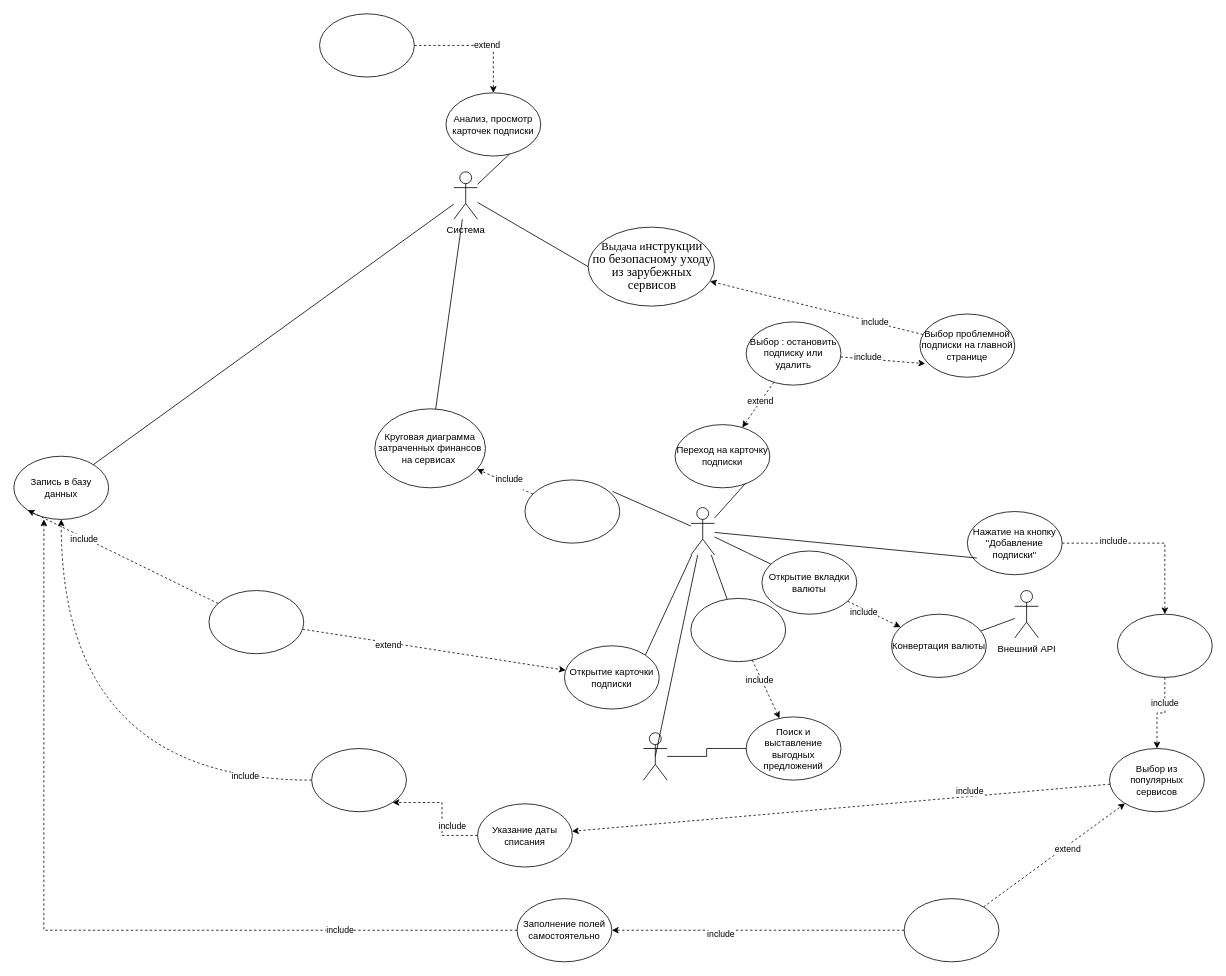
Image size: 1226x976. Some labels were removed from this diagram. The shapes that lost their labels are listed below. From the top down, each one's centre as x and y in pixels, then its label:
the point at 366,45: Отправка предупреждения за 24 часа о скором списании денег
the point at 572,511: Открытие вкладки Аналитика
the point at 702,531: Пользователь
the point at 256,622: Нажатие на поле заметки, ввод любой информации
the point at 738,630: Заход на гл страницу
the point at 1164,645: Добавление полей в карточки подписки
the point at 655,756: Администратор
the point at 358,780: Автозаполнение общих полей популярного сервиса
the point at 951,930: Нажать собственный вариант подписки
